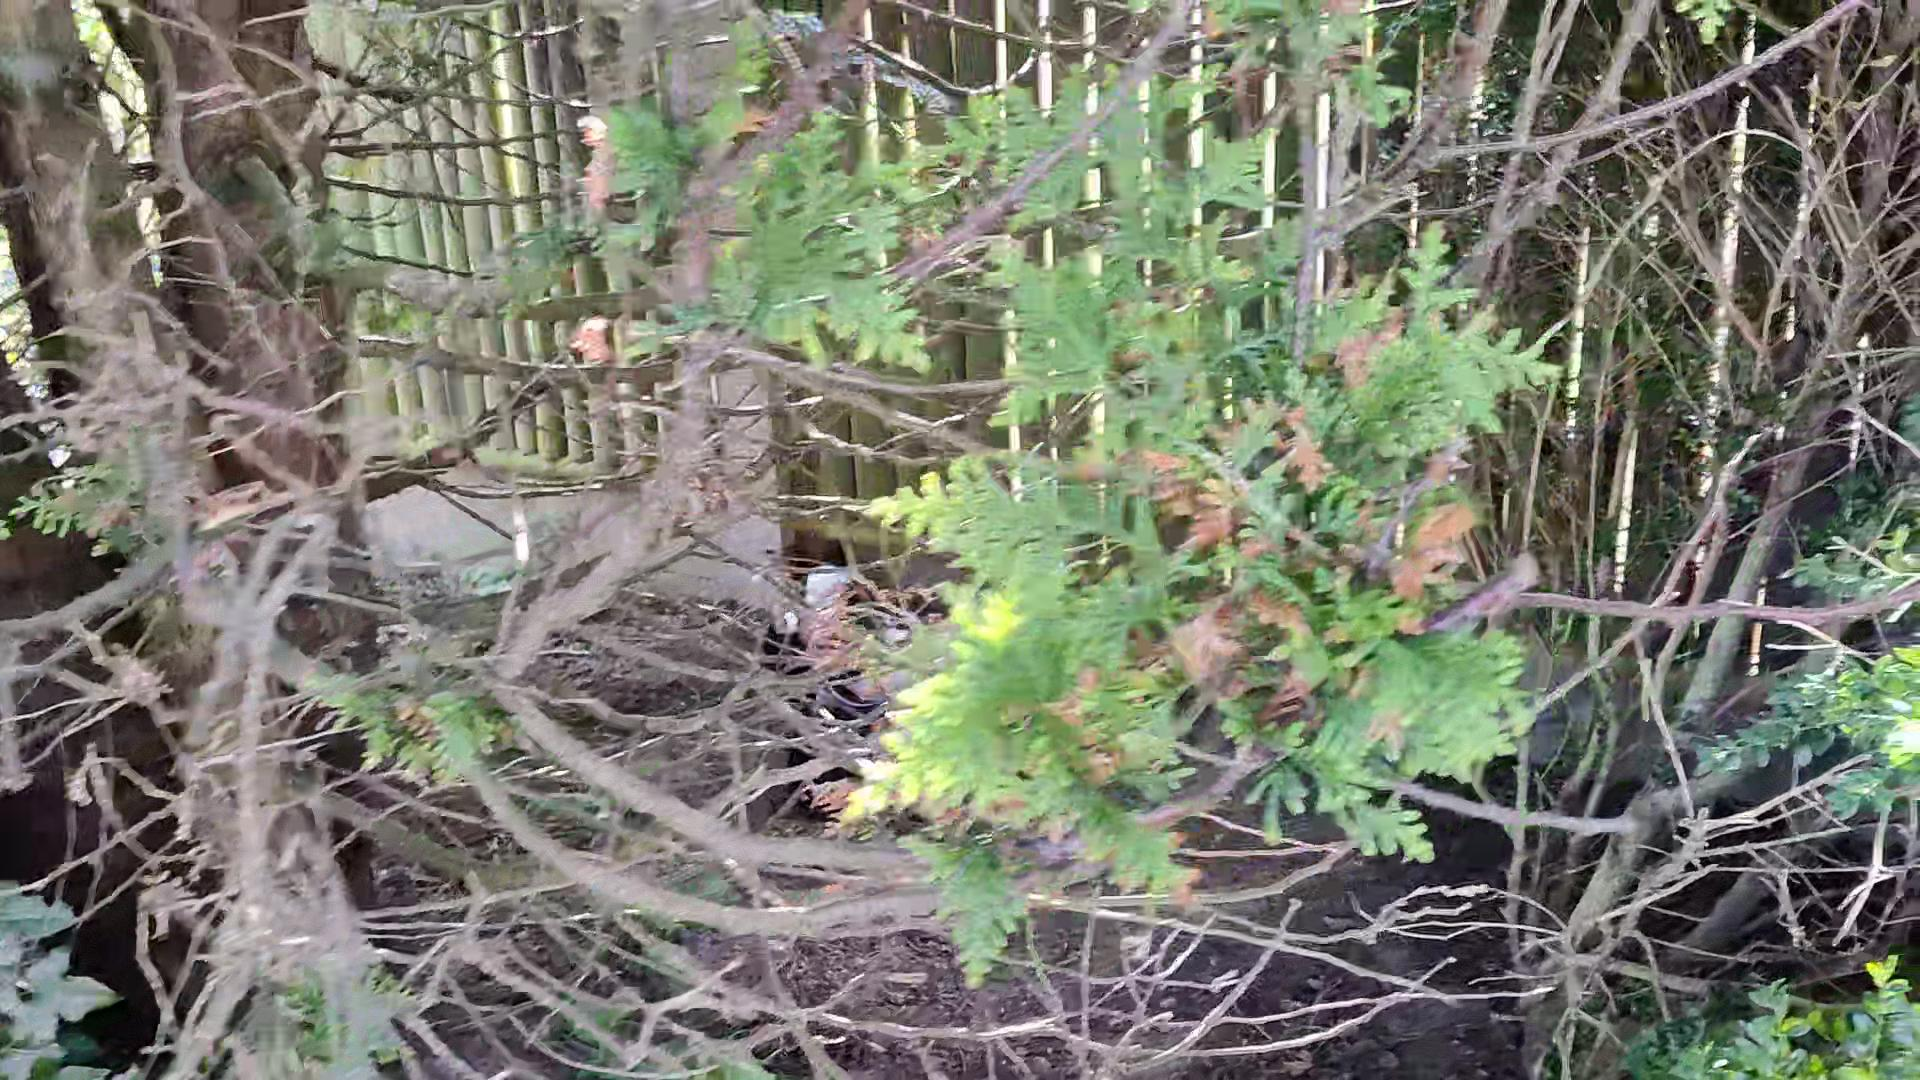Dog: (781, 533, 1007, 848)
